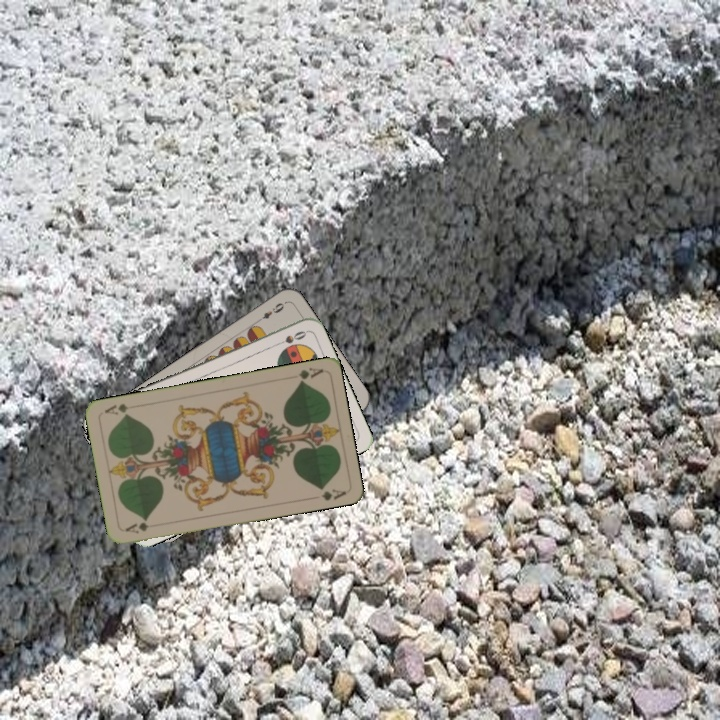E9: (252, 298, 288, 324)
GA: (294, 363, 325, 386), (121, 517, 151, 536)
SO: (270, 327, 309, 349)
